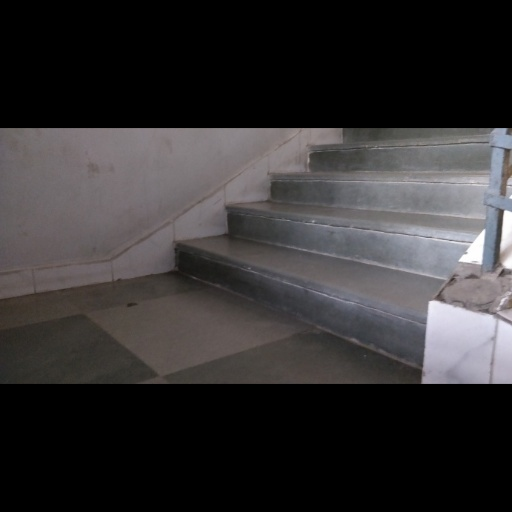Stairs: (176, 130, 488, 366)
